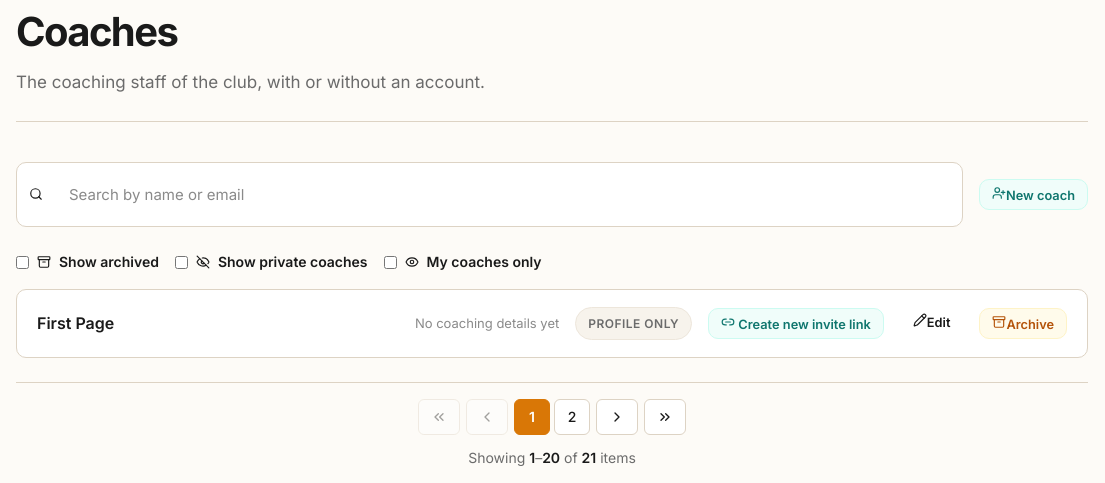
Test: Coaches › pages through the catalogue 20 at a time
Expected: the link "First Page" is shown, [37, 313, 114, 333]
Click the button named "Next page".
click(617, 417)  # box [596, 399, 638, 435]
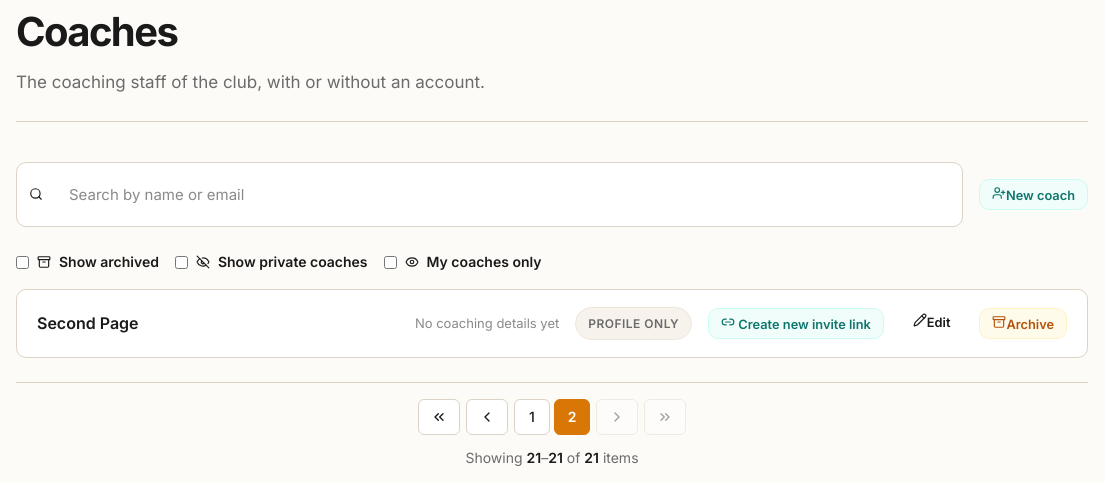
Result: the link "Second Page" is shown at [37, 313, 139, 333]
